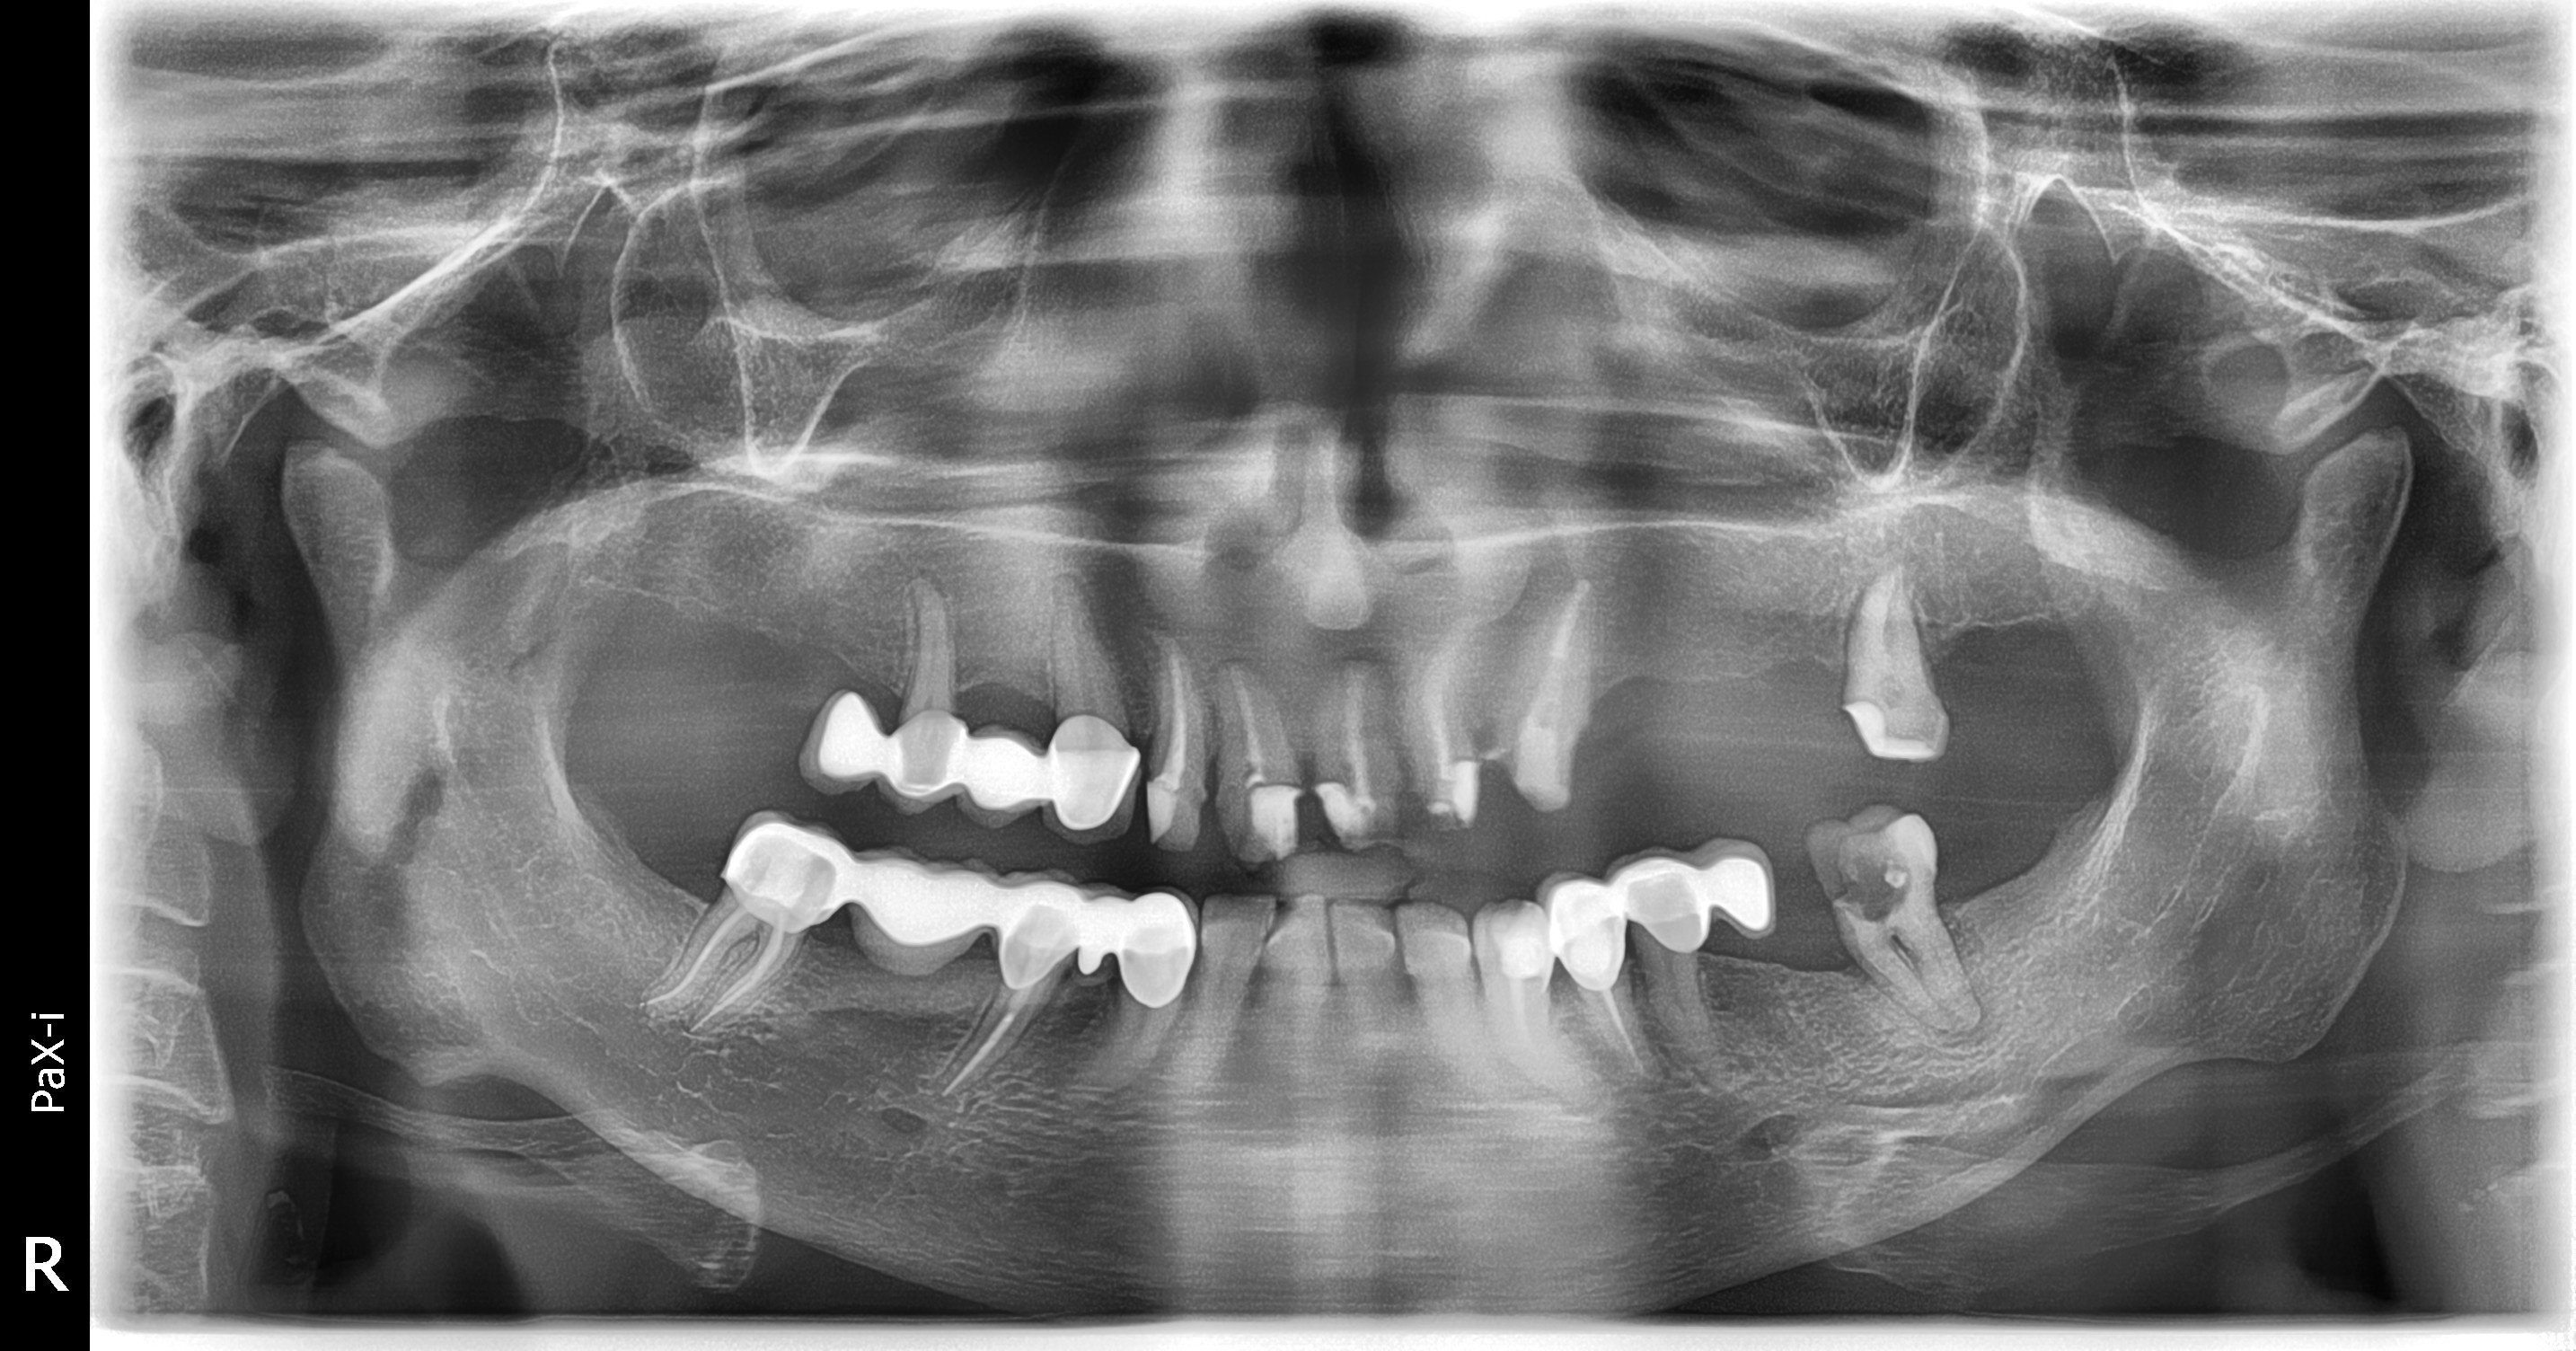API: (1908, 986, 2026, 1077)
CAR: (1799, 794, 1932, 951)
END: (613, 922, 806, 1027), (923, 980, 1044, 1111), (1513, 561, 1607, 724), (1130, 618, 1213, 779), (1397, 620, 1472, 782), (1307, 644, 1383, 782), (1213, 649, 1286, 787), (1590, 993, 1671, 1089)
OBT: (1820, 673, 1951, 780), (1472, 894, 1561, 1003), (1295, 773, 1395, 865), (1501, 726, 1574, 830), (1417, 744, 1489, 848), (1230, 770, 1307, 865), (1126, 777, 1189, 852)
PRR: (705, 789, 1193, 1038), (773, 673, 1155, 842), (1528, 821, 1784, 1012)
